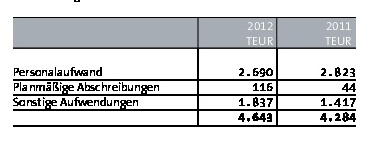table: (0, 0, 367, 142)
